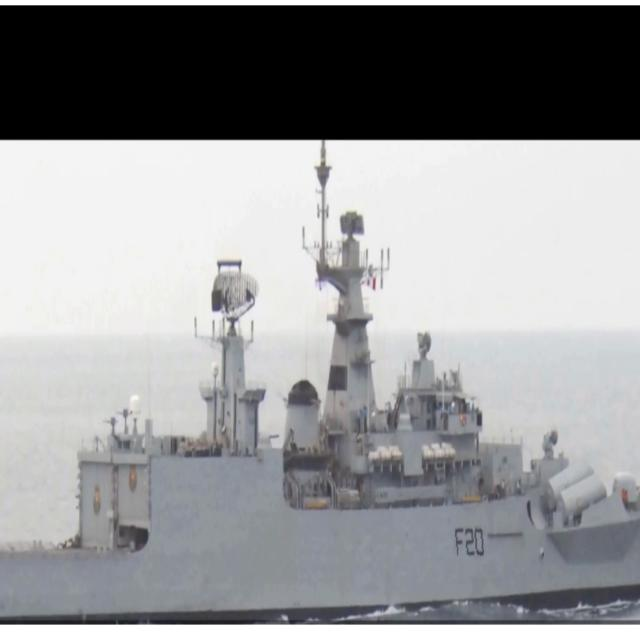OCR: (448, 520, 484, 562)
